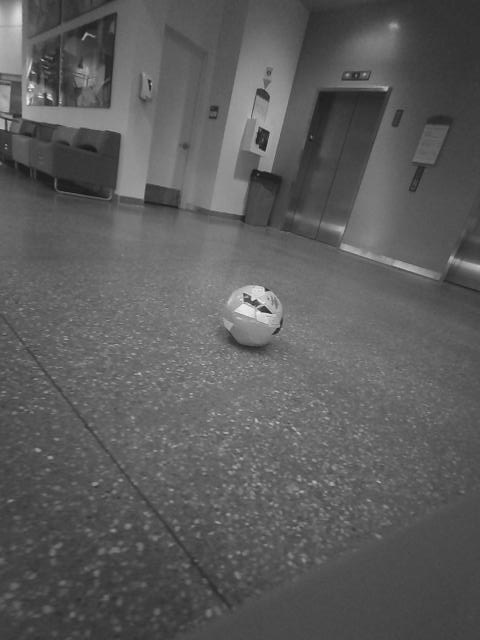ball: (267, 210, 288, 230)
